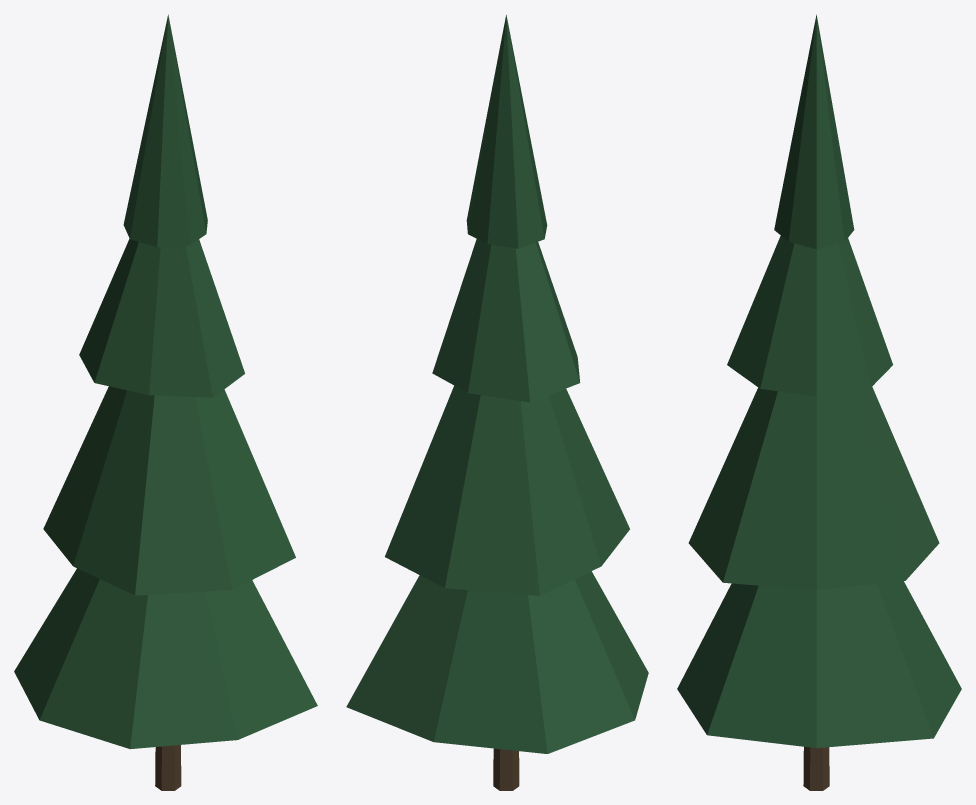
Rendered from sugi.glb.
3 renders of one model, left to right at view 1: azimuth 30°, elevation 25°; view 2: azimuth 150°, elevation 25°; view 3: azimuth 270°, elevation 25°, orthographic.
Visible parts, largest first — view 1: sugi; view 2: sugi; view 3: sugi.
Part boxes in pixels (<box>): sugi: <box>14,14,317,790</box>; sugi: <box>346,15,648,790</box>; sugi: <box>677,14,961,790</box>.
Bounding box in the file's own units: 4.85 × 14.3 × 4.78.
